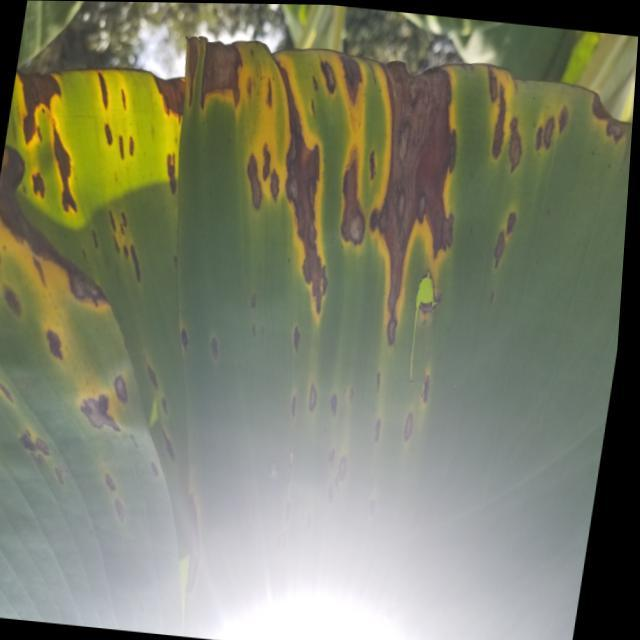Early_rust: (0, 20, 623, 592)
